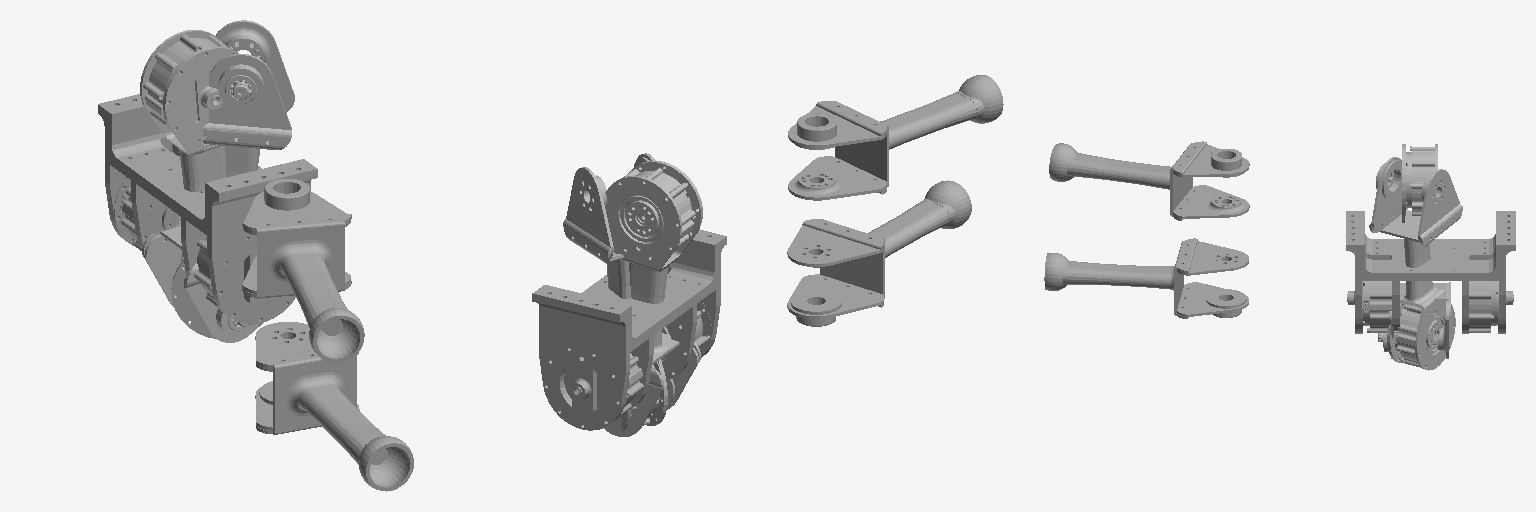
robot.urdf — biped-URDF-fixed:
<?xml version="1.0" encoding="utf-8"?>
<!-- This URDF was automatically created by SolidWorks to URDF Exporter! Originally created by Stephen Brawner (brawner@gmail.com) 
     Commit Version: 1.6.0-4-g7f85cfe  Build Version: 1.6.7995.38578
     For more information, please see http://wiki.ros.org/sw_urdf_exporter -->
<robot
  name="biped-URDF-fixed">
  <link
    name="base_link">
    <inertial>
      <origin
        xyz="-1.438E-05 -0.016358 -0.0027328"
        rpy="0 0 0" />
      <mass
        value="1.2236" />
      <inertia
        ixx="0.0041457"
        ixy="6.5719E-07"
        ixz="7.1474E-09"
        iyy="0.0040128"
        iyz="-7.7055E-09"
        izz="0.0015536" />
    </inertial>
    <visual>
      <origin
        xyz="0 0 0"
        rpy="0 0 0" />
      <geometry>
        <mesh
          filename="base_link.STL" />
      </geometry>
      <material
        name="">
        <color
          rgba="0.69804 0.69804 0.69804 1" />
      </material>
    </visual>
    <collision>
      <origin
        xyz="0 0 0"
        rpy="0 0 0" />
      <geometry>
        <mesh
          filename="base_link.STL" />
      </geometry>
    </collision>
  </link>
  <link
    name="L_thigh_link">
    <inertial>
      <origin
        xyz="0.030049 -0.12711 -0.037895"
        rpy="0 0 0" />
      <mass
        value="0.26333" />
      <inertia
        ixx="0.00036191"
        ixy="6.0499E-05"
        ixz="-1.7343E-06"
        iyy="0.00012037"
        iyz="7.3092E-06"
        izz="0.00042449" />
    </inertial>
    <visual>
      <origin
        xyz="0 0 0"
        rpy="0 0 0" />
      <geometry>
        <mesh
          filename="L_thigh_link.STL" />
      </geometry>
      <material
        name="">
        <color
          rgba="0.75294 0.75294 0.75294 1" />
      </material>
    </visual>
    <collision>
      <origin
        xyz="0 0 0"
        rpy="0 0 0" />
      <geometry>
        <mesh
          filename="L_thigh_link.STL" />
      </geometry>
    </collision>
  </link>
  <joint
    name="L_hip_joint"
    type="revolute">
    <origin
      xyz="0 -0.0525 0.0975"
      rpy="0 0 -0.56029" />
    <parent
      link="base_link" />
    <child
      link="L_thigh_link" />
    <axis
      xyz="0 0 1" />
    <limit
      lower="0"
      upper="0"
      effort="12"
      velocity="31" />
  </joint>
  <link
    name="L_foot_link">
    <inertial>
      <origin
        xyz="5.4419E-08 -0.08098 -0.036936"
        rpy="0 0 0" />
      <mass
        value="0.17812" />
      <inertia
        ixx="0.00033579"
        ixy="-5.5955E-10"
        ixz="3.8786E-11"
        iyy="5.5113E-05"
        iyz="-8.2559E-07"
        izz="0.00035765" />
    </inertial>
    <visual>
      <origin
        xyz="0 0 0"
        rpy="0 0 0" />
      <geometry>
        <mesh
          filename="L_foot_link.STL" />
      </geometry>
      <material
        name="">
        <color
          rgba="0.69804 0.69804 0.69804 1" />
      </material>
    </visual>
    <collision>
      <origin
        xyz="0 0 0"
        rpy="0 0 0" />
      <geometry>
        <mesh
          filename="L_foot_link.STL" />
      </geometry>
    </collision>
  </link>
  <joint
    name="L_knee_joint"
    type="revolute">
    <origin
      xyz="0.043239 -0.18296 0"
      rpy="0 0 0.23737" />
    <parent
      link="L_thigh_link" />
    <child
      link="L_foot_link" />
    <axis
      xyz="0 0 1" />
    <limit
      lower="0"
      upper="0"
      effort="12"
      velocity="31" />
  </joint>
  <link
    name="R_thigh_link">
    <inertial>
      <origin
        xyz="-0.04144 0.12387 -0.040895"
        rpy="0 0 0" />
      <mass
        value="0.26333" />
      <inertia
        ixx="0.00034867"
        ixy="8.1558E-05"
        ixz="2.3963E-06"
        iyy="0.0001336"
        iyz="-7.1204E-06"
        izz="0.00042449" />
    </inertial>
    <visual>
      <origin
        xyz="0 0 0"
        rpy="0 0 0" />
      <geometry>
        <mesh
          filename="R_thigh_link.STL" />
      </geometry>
      <material
        name="">
        <color
          rgba="0.75294 0.75294 0.75294 1" />
      </material>
    </visual>
    <collision>
      <origin
        xyz="0 0 0"
        rpy="0 0 0" />
      <geometry>
        <mesh
          filename="R_thigh_link.STL" />
      </geometry>
    </collision>
  </link>
  <joint
    name="R_hip_joint"
    type="revolute">
    <origin
      xyz="0 -0.0525 -0.1005"
      rpy="3.1416 0 0" />
    <parent
      link="base_link" />
    <child
      link="R_thigh_link" />
    <axis
      xyz="0 0 -1" />
    <limit
      lower="0"
      upper="0"
      effort="12"
      velocity="31" />
  </joint>
  <link
    name="R_foot_link">
    <inertial>
      <origin
        xyz="0.016404 0.079301 -0.036936"
        rpy="0 0 0" />
      <mass
        value="0.17812" />
      <inertia
        ixx="0.00032427"
        ixy="-5.5679E-05"
        ixz="1.6719E-07"
        iyy="6.663E-05"
        iyz="8.0844E-07"
        izz="0.00035765" />
    </inertial>
    <visual>
      <origin
        xyz="0 0 0"
        rpy="0 0 0" />
      <geometry>
        <mesh
          filename="R_foot_link.STL" />
      </geometry>
      <material
        name="">
        <color
          rgba="0.69804 0.69804 0.69804 1" />
      </material>
    </visual>
    <collision>
      <origin
        xyz="0 0 0"
        rpy="0 0 0" />
      <geometry>
        <mesh
          filename="R_foot_link.STL" />
      </geometry>
    </collision>
  </link>
  <joint
    name="R_knee_joint"
    type="revolute">
    <origin
      xyz="-0.059694 0.17827 -0.003"
      rpy="0 0 0.32311" />
    <parent
      link="R_thigh_link" />
    <child
      link="R_foot_link" />
    <axis
      xyz="0 0 -1" />
    <limit
      lower="0"
      upper="0"
      effort="12"
      velocity="31" />
  </joint>
</robot>

--- What the picture shows (computed from the rendered views, not written in the file) ---
3 views of the same robot in one strip: view 1: azimuth 30°, elevation 25°; view 2: azimuth 150°, elevation 25°; view 3: azimuth 270°, elevation 25° (orthographic).
Model biped-URDF-fixed with 5 links and 4 joints (4 revolute), rooted at base_link, posed every joint at zero.
Visible links, largest first — view 1: base_link, L_foot_link, R_thigh_link, R_foot_link, L_thigh_link; view 2: base_link, R_thigh_link, L_foot_link, R_foot_link, L_thigh_link; view 3: base_link, L_thigh_link, L_foot_link, R_foot_link, R_thigh_link.
Link boxes in pixels (x1,y1,x2,y2): base_link: [98, 94, 317, 323]; L_foot_link: [242, 179, 364, 362]; R_thigh_link: [140, 30, 258, 342]; R_foot_link: [255, 322, 413, 491]; L_thigh_link: [171, 20, 294, 338]; base_link: [532, 229, 726, 430]; R_thigh_link: [604, 161, 702, 436]; L_foot_link: [788, 75, 1003, 200]; R_foot_link: [787, 180, 971, 326]; L_thigh_link: [563, 153, 667, 431]; base_link: [1346, 211, 1515, 333]; L_thigh_link: [1369, 157, 1462, 370]; L_foot_link: [1049, 141, 1249, 220]; R_foot_link: [1044, 238, 1248, 318]; R_thigh_link: [1378, 144, 1450, 358].
Bounding box of the posed robot: 0.2193 × 0.5322 × 0.2587 m (x, y, z).
5 mesh visuals loaded from 5 distinct referenced files (5 binary STL).
